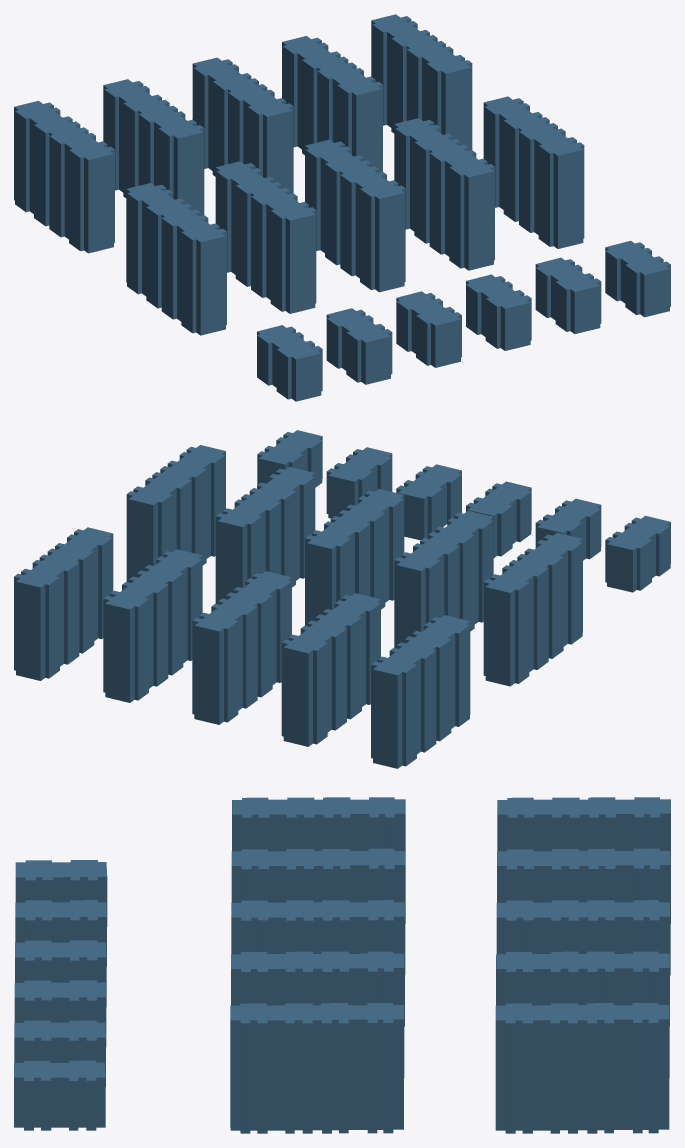
The model's file is 科技氛围建筑_001.glb.
3 views of the same model, one above another, from view 1: azimuth 30°, elevation 25°; view 2: azimuth 150°, elevation 25°; view 3: azimuth 270°, elevation 25° (orthographic). The views are drawn at different scales.
Visible parts, largest first — view 1: 科技氛围建筑_001; view 2: 科技氛围建筑_001; view 3: 科技氛围建筑_001.
Boxes of the visible parts, x1,y1,x2,y2 form: 科技氛围建筑_001: (14,14,670,401); 科技氛围建筑_001: (14,430,670,768); 科技氛围建筑_001: (14,797,670,1133).
Bounding box in the file's own units: 104 × 23.74 × 128.
